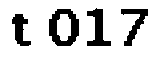0: (42, 3, 81, 50)
1: (83, 6, 112, 51)
7: (121, 6, 151, 50)
t: (7, 12, 35, 52)
